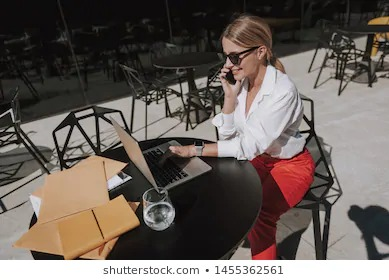S_blouse: (203, 68, 312, 162)
